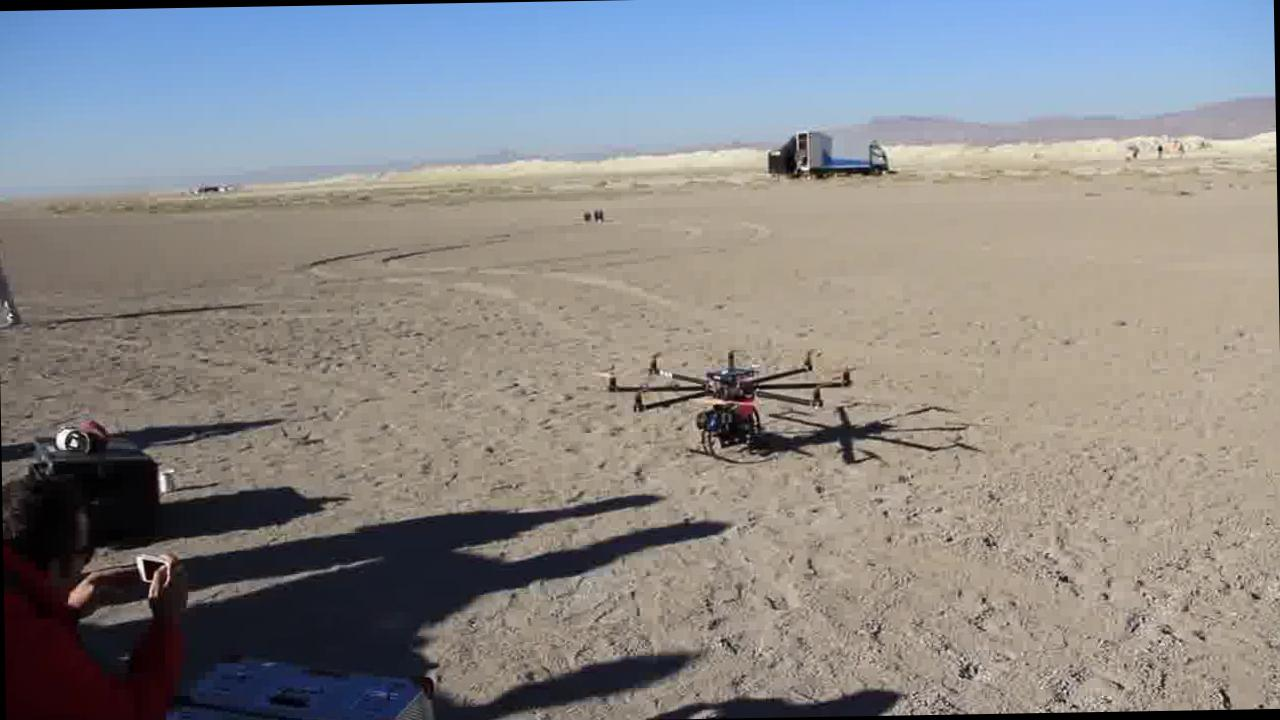drone: (598, 342, 858, 461)
